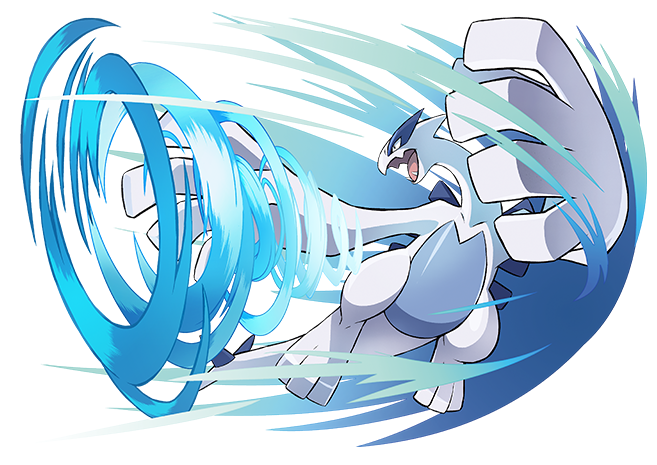lugia: (376, 109, 449, 184)
